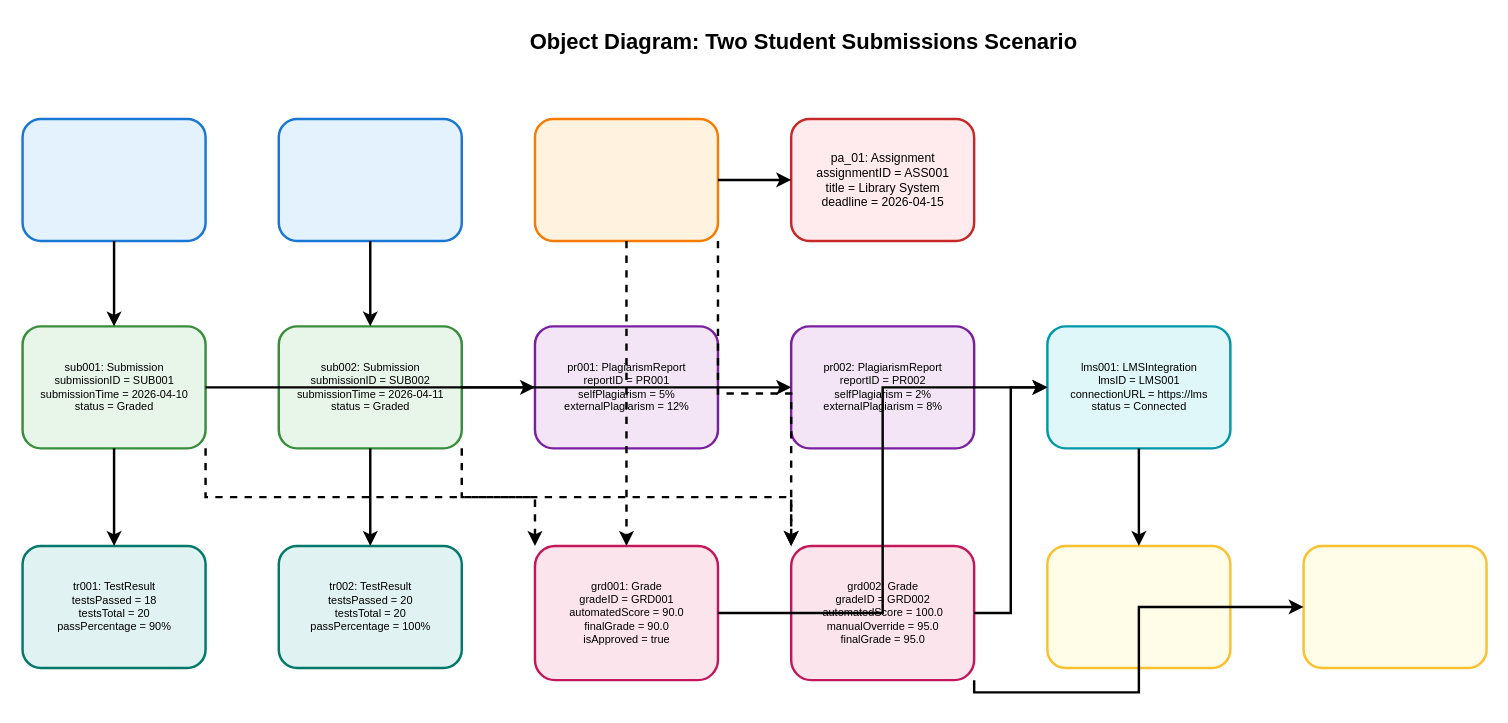
The diagram is 1508 pixels wide and 723 high, and some of its shapes have lost their labels. Here are the shapes that lost their labels. From the top down, the centre of each, then its label:
point 113,179: Karma_N: Student studentID = STU001 name = Karma N email = Karma@uni.edu
point 369,179: Tashi_D: Student studentID = STU002 name = Tashi D email = Tashi@uni.edu
point 626,179: dr_Pema: Professor professorID = PROF001 name = Dr. Pema email = Pema@uni.edu
point 1138,606: at001: AuditTrail action = Grade Exported actor = PROF001 timestamp = 2026-04-12
point 1394,606: at002: AuditTrail action = Grade Override actor = PROF001 timestamp = 2026-04-12
